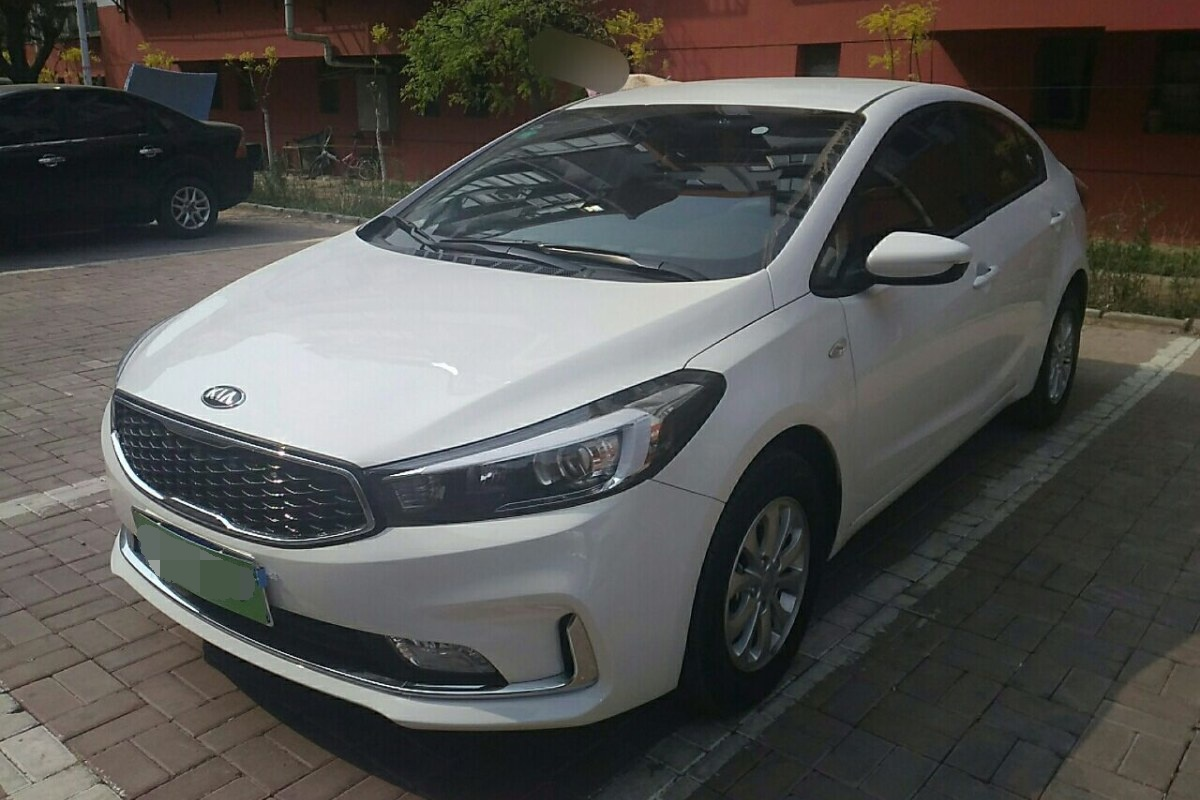family sedan: (123, 40, 1101, 705)
